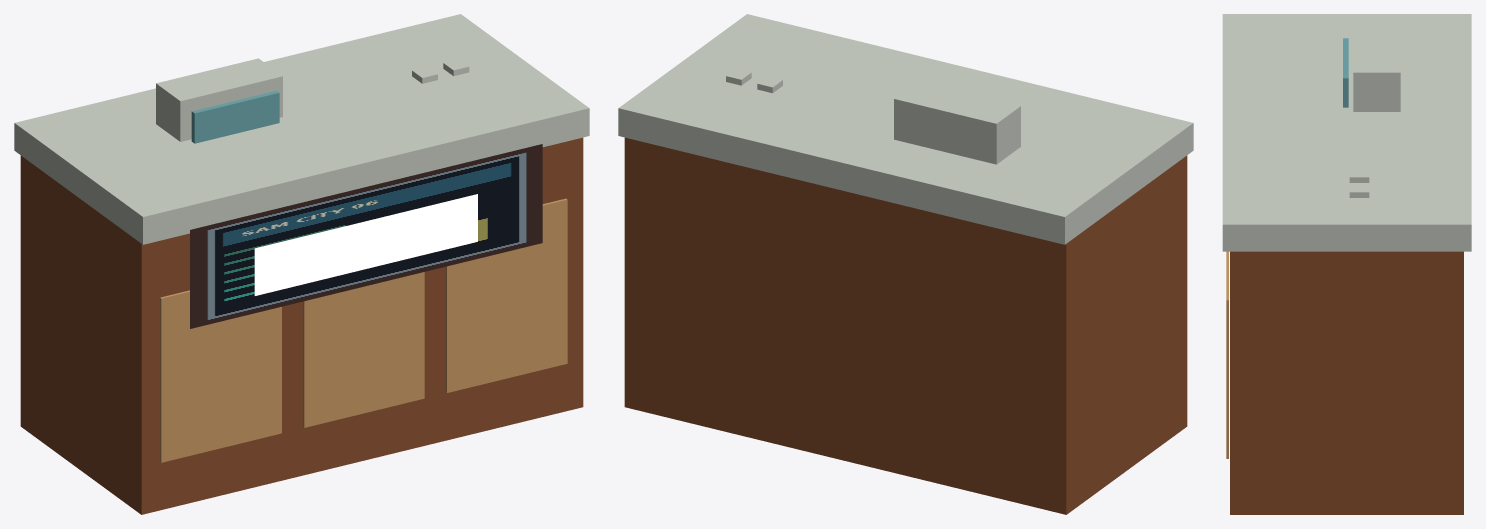
File: pc_display.glb
The picture shows the model from 3 angles, left to right: view 1: azimuth 30°, elevation 25°; view 2: azimuth 150°, elevation 25°; view 3: azimuth 270°, elevation 25°; orthographic projection. The views are drawn at different scales.
Size of the model in its own units: 1.6 by 1.17 by 0.7985.
Materials: 3 (2 with a texture image).
